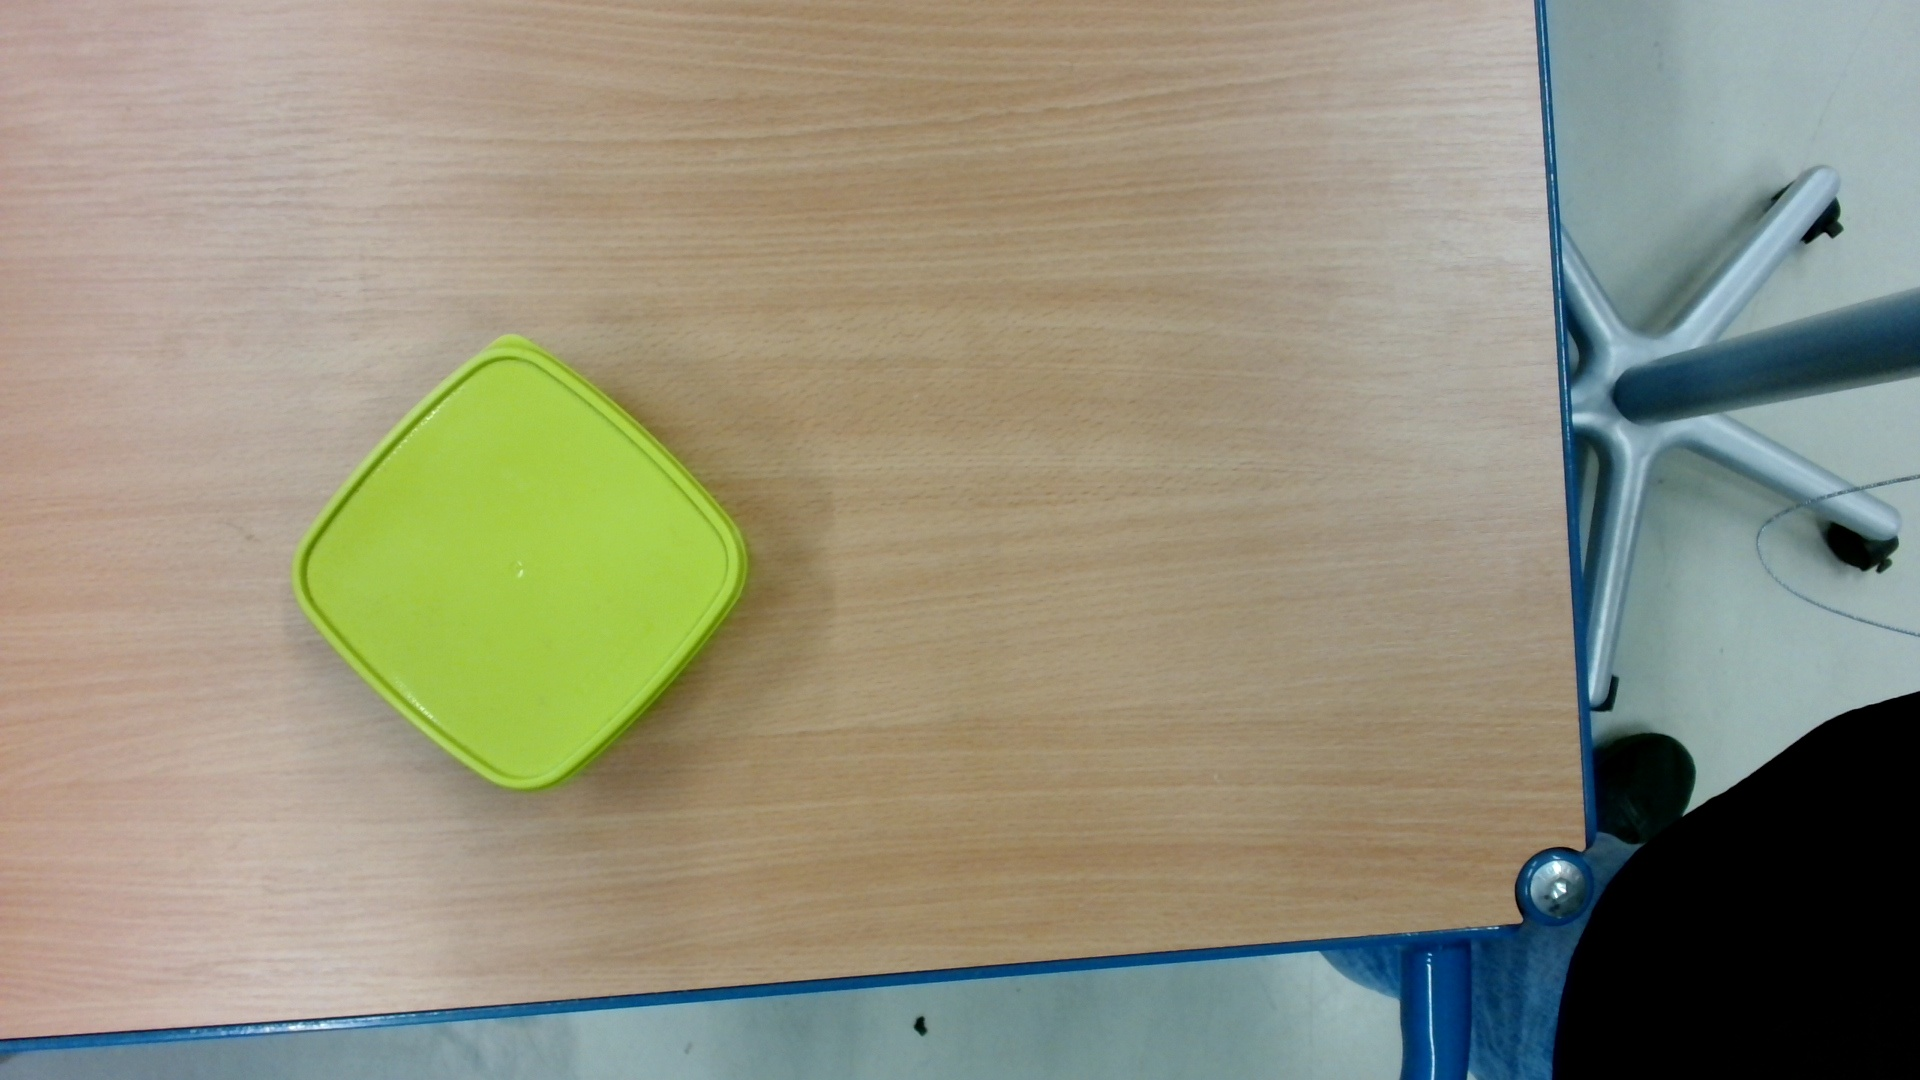Box: (284, 324, 760, 804)
